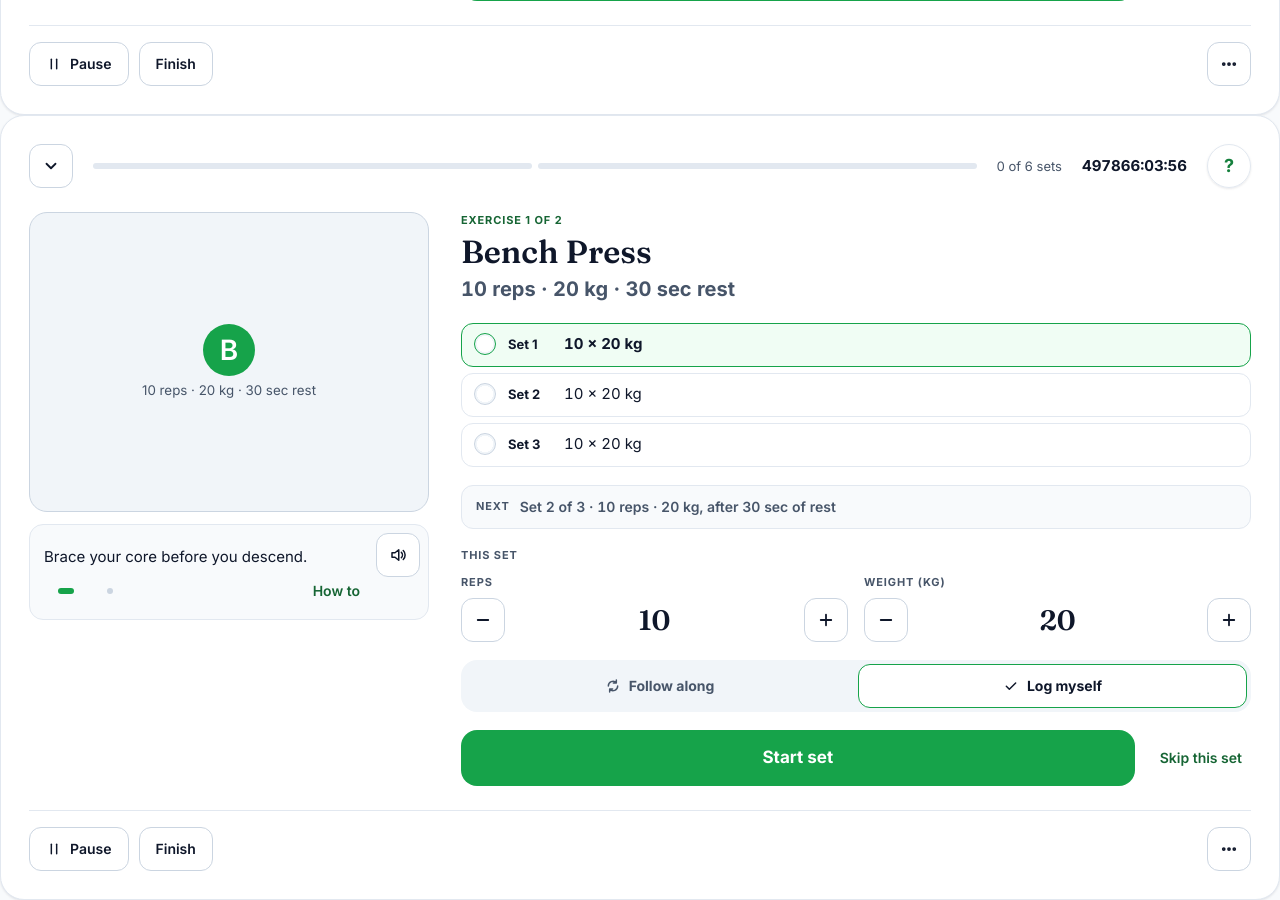
ExercisePlayerComponent › a session started from a weekly plan › working through the sets › offers Discard workout in the finish question, and asks again before it discards
(page scrolled)
What coordinates should you click on to do the following:
click the 2nd button "Finish"
I would click on:
 (176, 849)
Its box is [138,827,213,871].
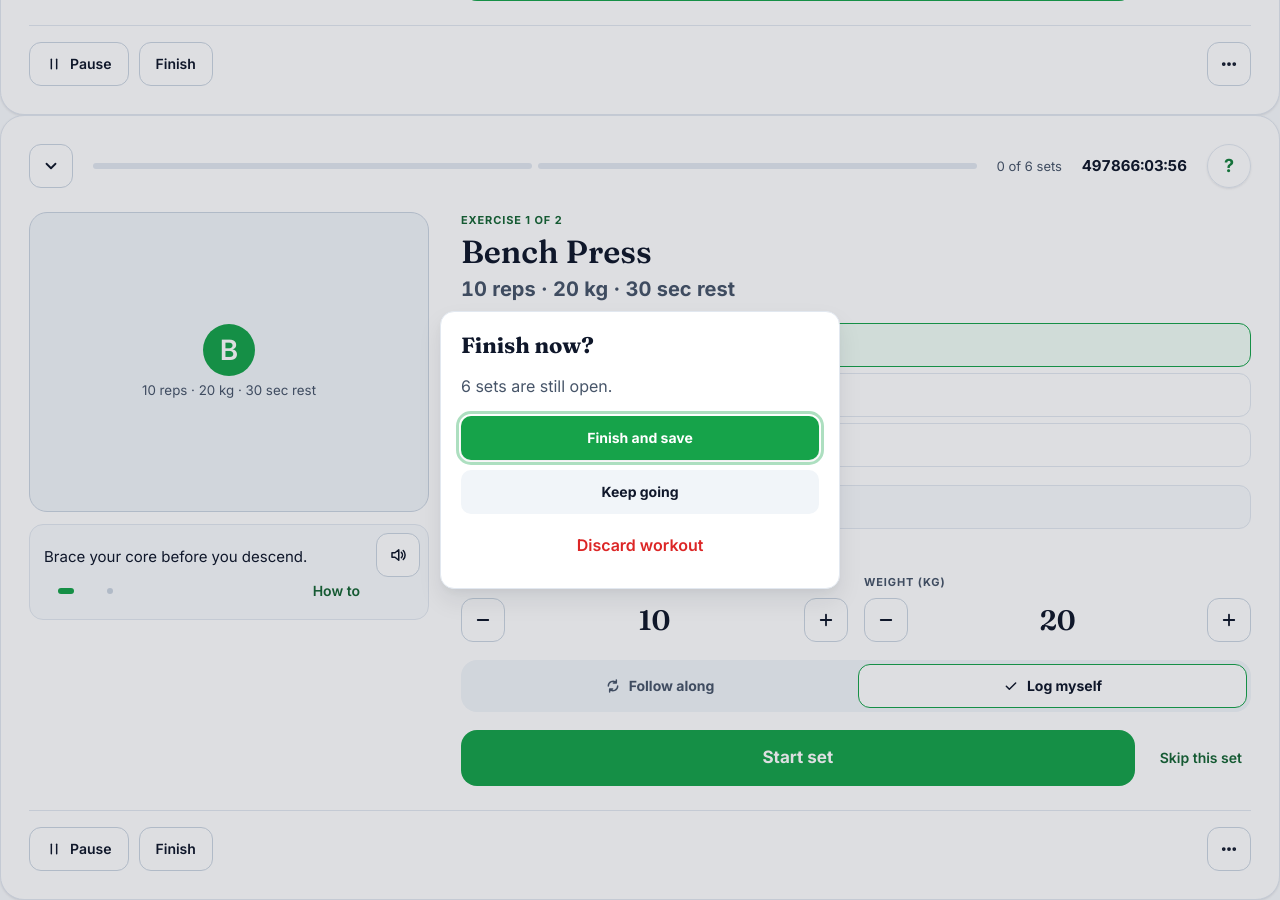
What coordinates should you click on to do the following:
click the button "Discard workout"
I would click on:
 (640, 546)
Its box is [461,524,819,568].
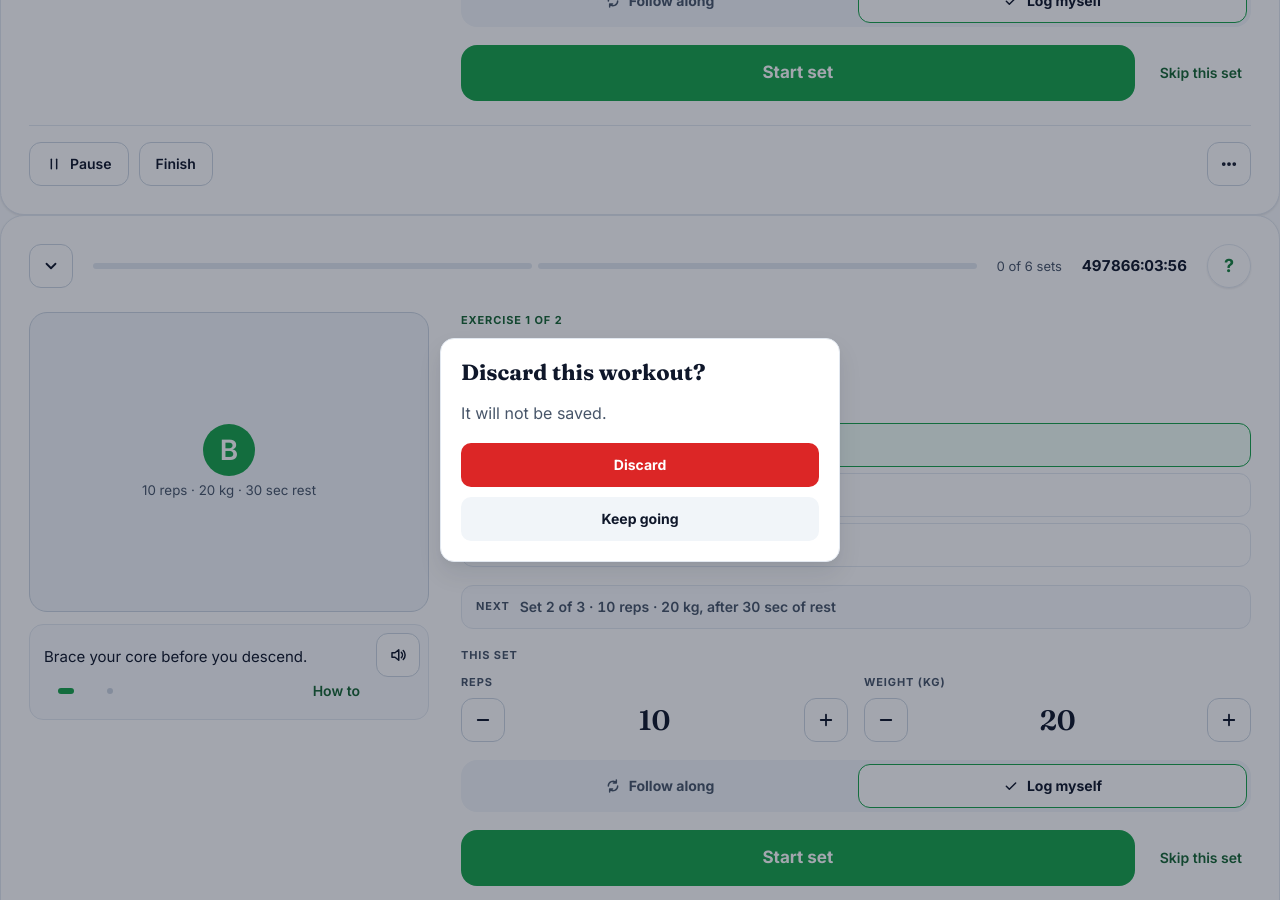
expect the heading "Discard this workout?" is shown: met, box [461,358,706,386]
